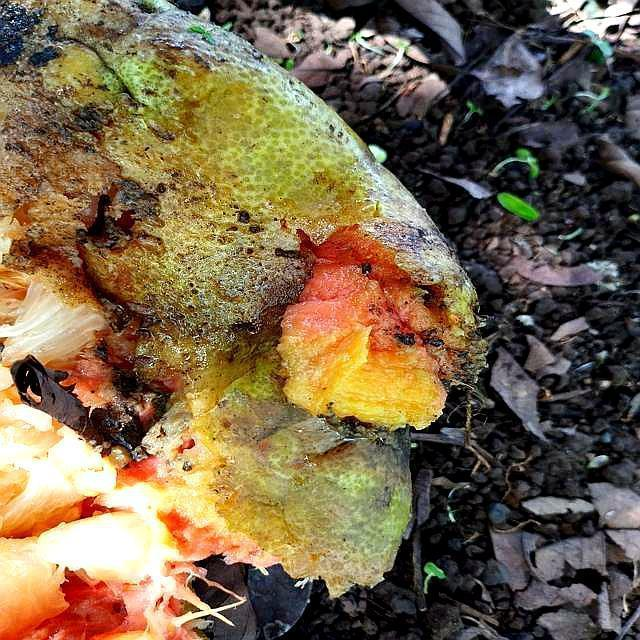Biodegradable: (1, 1, 475, 640)
